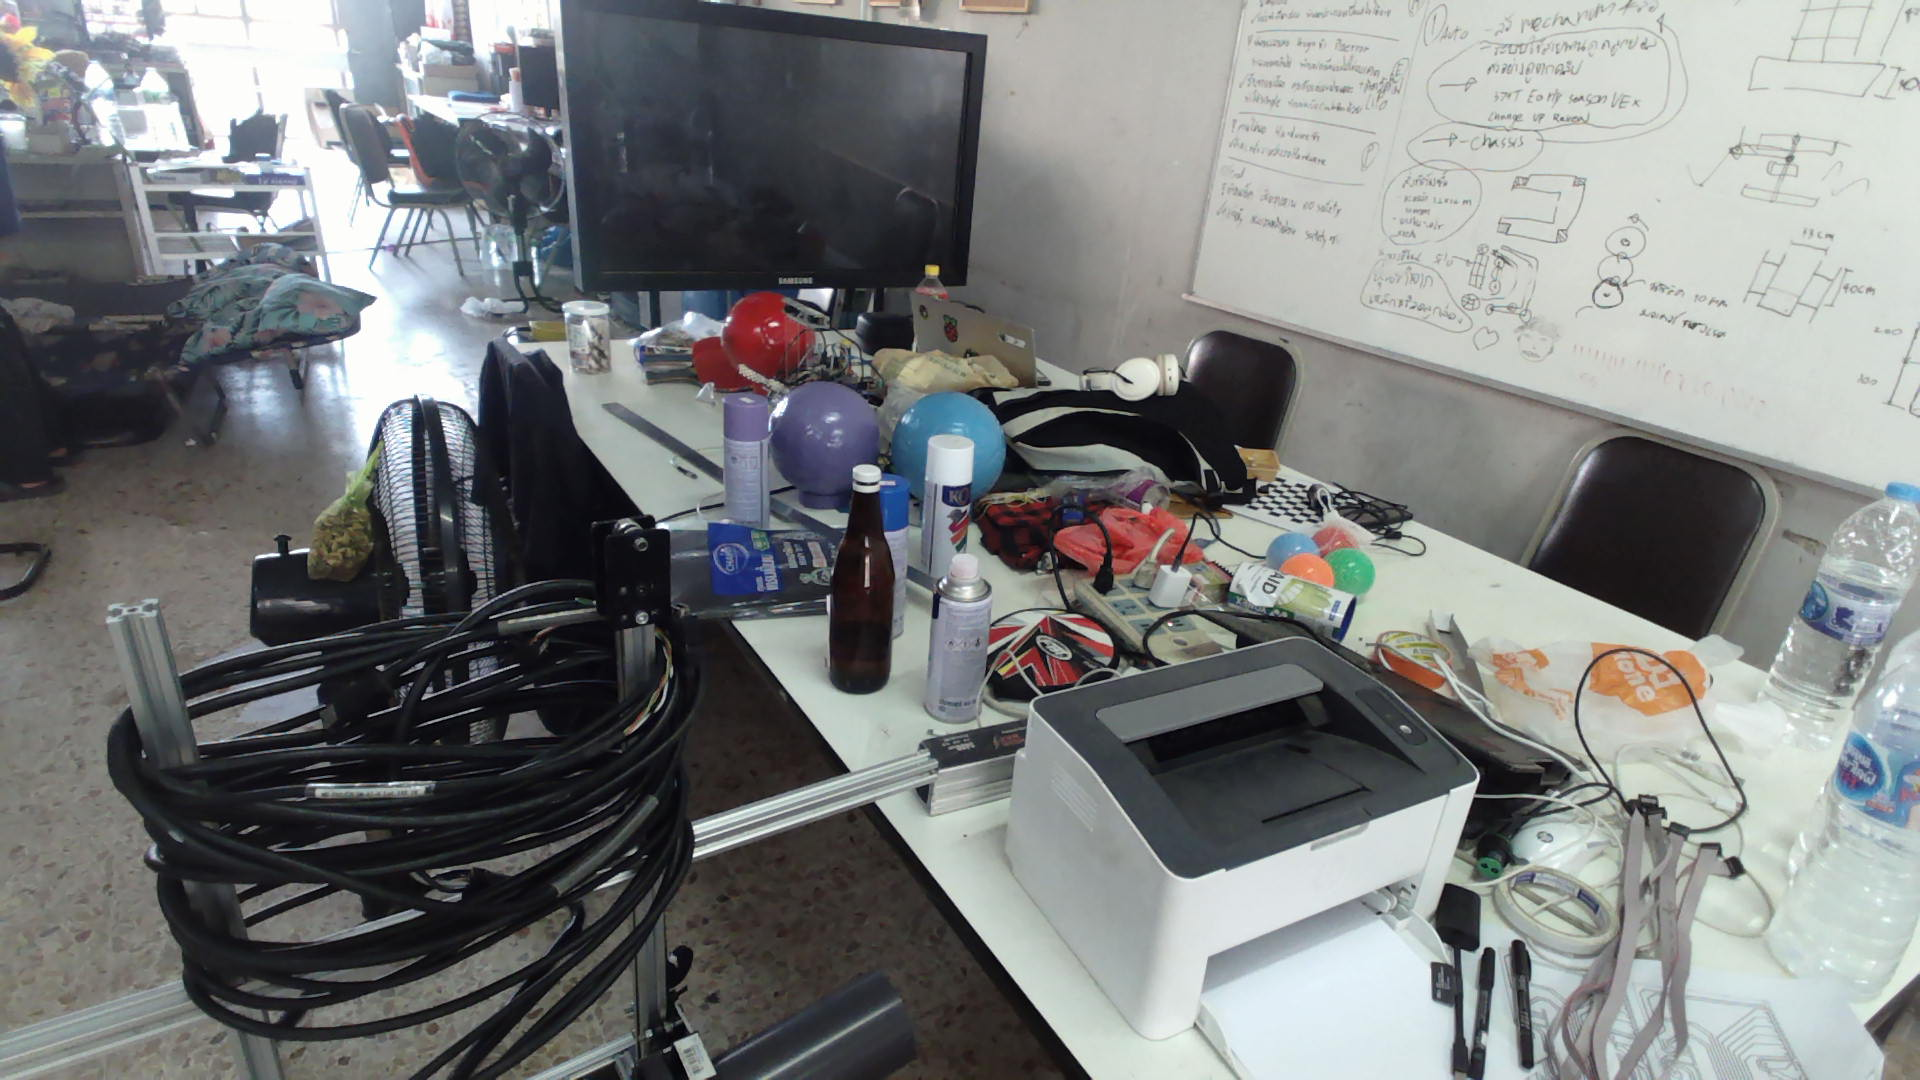Blue ball: (890, 390, 1008, 475)
Purple ball: (766, 379, 881, 491)
Red ball: (720, 291, 815, 370)
